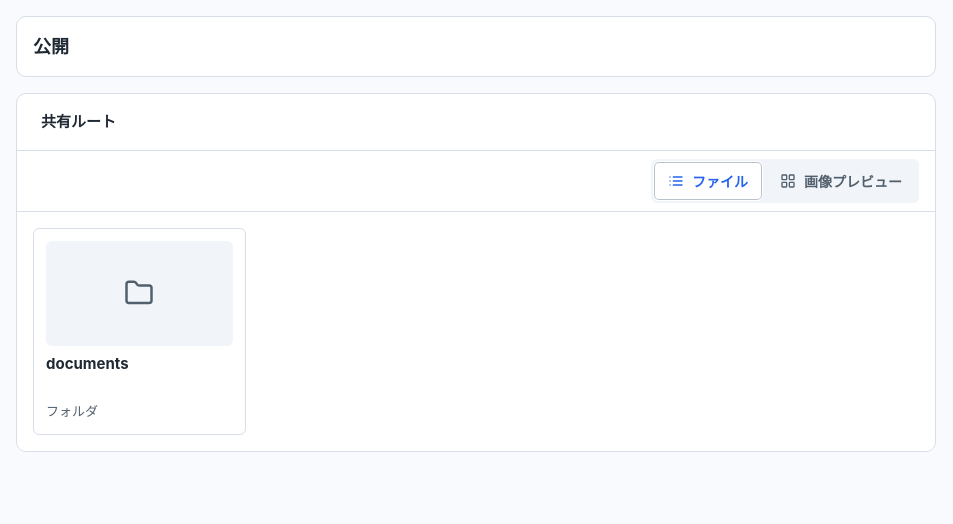
Test: PublicSharePage password unlock › navigates back only inside the shared root breadcrumbs
Expected: the button "共有ルート" is disabled, left=33, top=106, right=124, bottom=138
Click the button with aria-label "documents を開く" at (139, 331), box left=46, top=241, right=232, bottom=422
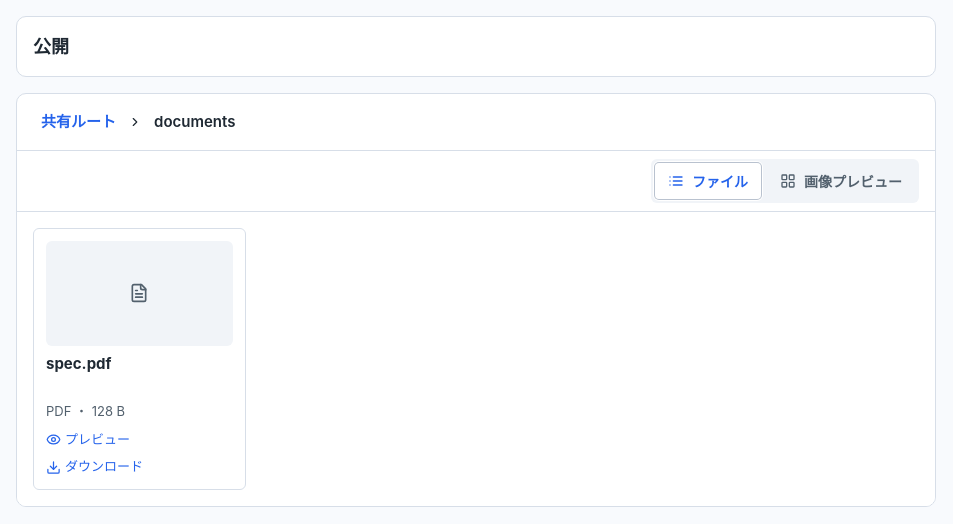
Expected: the text "spec.pdf" is shown, left=46, top=354, right=112, bottom=373
Click the button "共有ルート" at (78, 122), box left=33, top=106, right=124, bottom=138
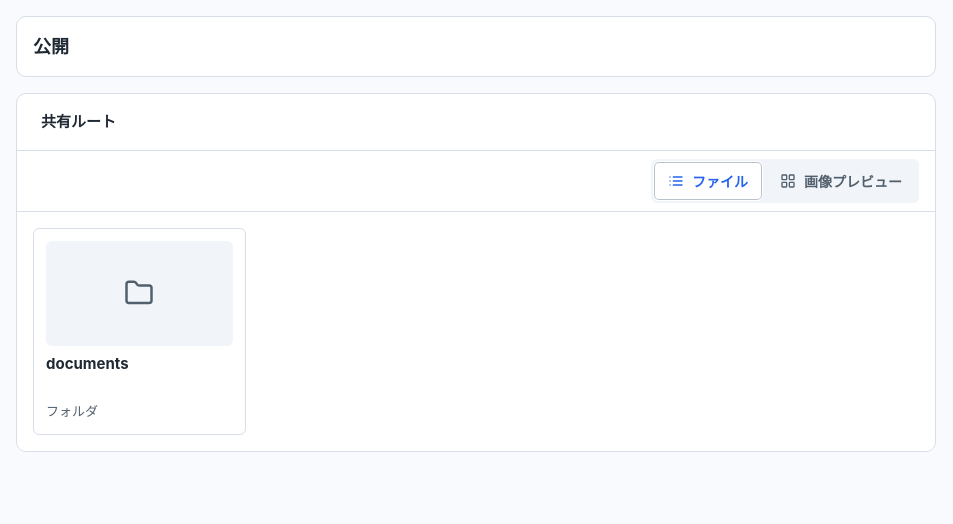
Expected: the text "documents" is shown, left=46, top=354, right=129, bottom=373
Expected: the button "spec.pdf" is gone
